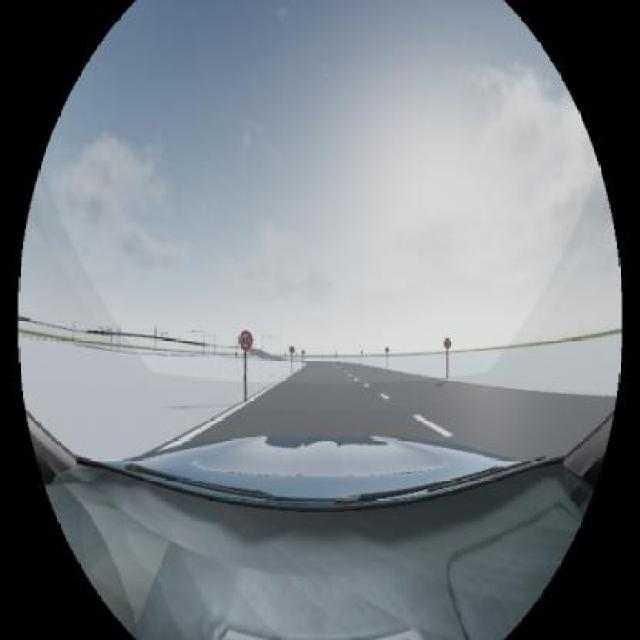forb_speed_over_60: (239, 329, 253, 351)
